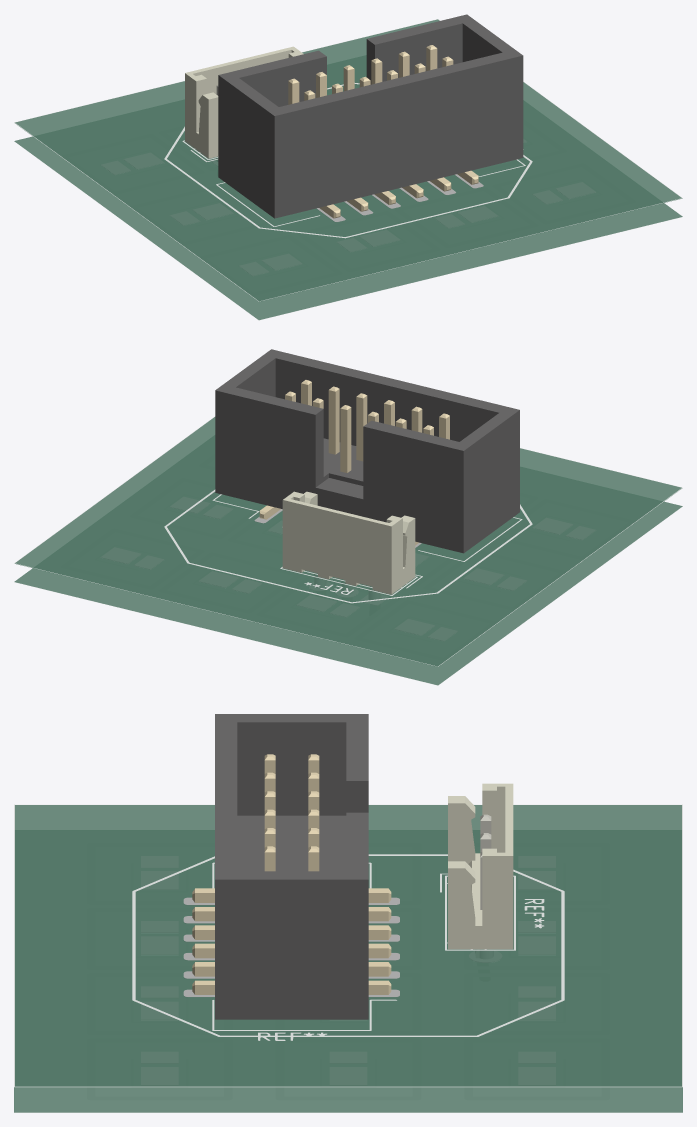
File: domino-tile-pcb.glb
3 renders of one model, top to bottom at view 1: azimuth 30°, elevation 25°; view 2: azimuth 150°, elevation 25°; view 3: azimuth 270°, elevation 25°, orthographic. The views are drawn at different scales.
Visible parts, largest first — view 1: =>[0:1:1:6], REF** (×2), =>[0:1:1:4], =>[0:1:1:5]; view 2: =>[0:1:1:6], REF** (×2), =>[0:1:1:4], =>[0:1:1:5]; view 3: =>[0:1:1:6], REF** (×2), =>[0:1:1:4], =>[0:1:1:5].
Part boxes in pixels (x1=…): =>[0:1:1:6]: x1=14, y1=19, x2=682, y2=320; REF** (×2): x1=185, y1=14, x2=523, y2=218; =>[0:1:1:4]: x1=102, y1=140, x2=594, y2=275; =>[0:1:1:5]: x1=14, y1=19, x2=682, y2=320; =>[0:1:1:6]: x1=14, y1=417, x2=682, y2=685; REF** (×2): x1=215, y1=349, x2=519, y2=594; =>[0:1:1:4]: x1=101, y1=497, x2=595, y2=640; =>[0:1:1:5]: x1=14, y1=416, x2=682, y2=685; =>[0:1:1:6]: x1=14, y1=805, x2=682, y2=1112; REF** (×2): x1=192, y1=714, x2=513, y2=1019; =>[0:1:1:4]: x1=141, y1=856, x2=555, y2=1084; =>[0:1:1:5]: x1=14, y1=804, x2=682, y2=1112.
Bounding box in the file's own units: 0.039 × 0.0128 × 0.039.
